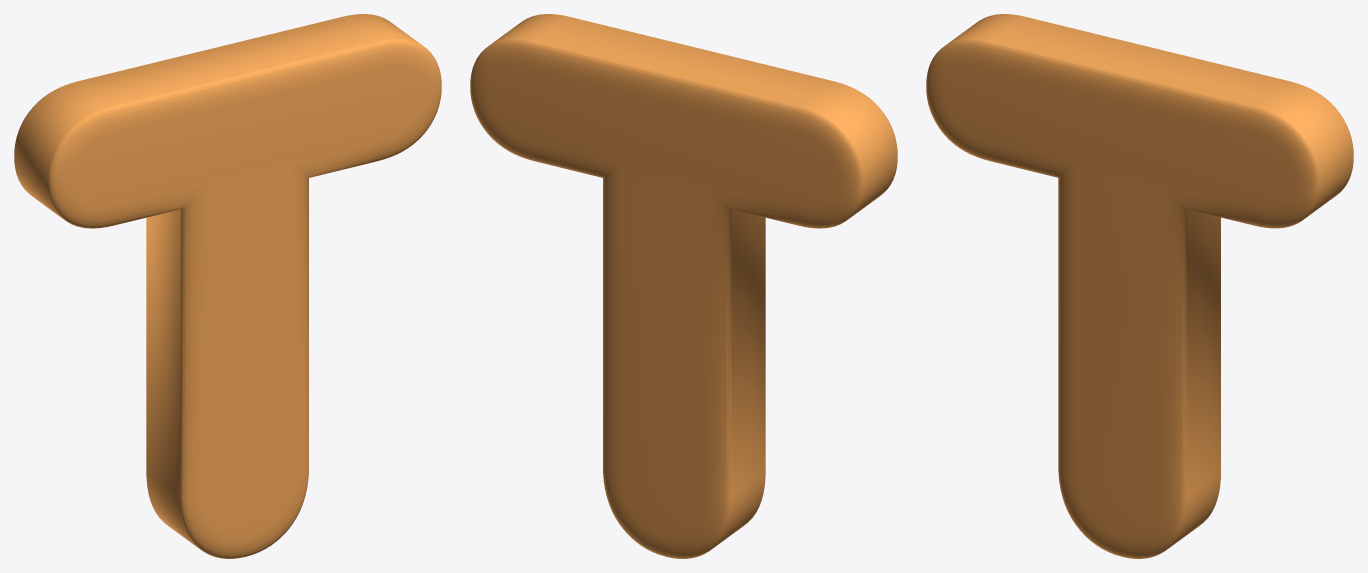
The model's file is RA_Letter_T.fbx.
3 renders of one model, left to right at view 1: azimuth 30°, elevation 25°; view 2: azimuth 150°, elevation 25°; view 3: azimuth 330°, elevation 25°, orthographic.
Visible parts, largest first — view 1: RA_Letter_T; view 2: RA_Letter_T; view 3: RA_Letter_T.
Boxes of the visible parts, x1,y1,x2,y2 form: RA_Letter_T: [14, 14, 441, 558]; RA_Letter_T: [470, 14, 897, 558]; RA_Letter_T: [926, 14, 1353, 558].
Bounding box in the file's own units: 153 × 180 × 28.
